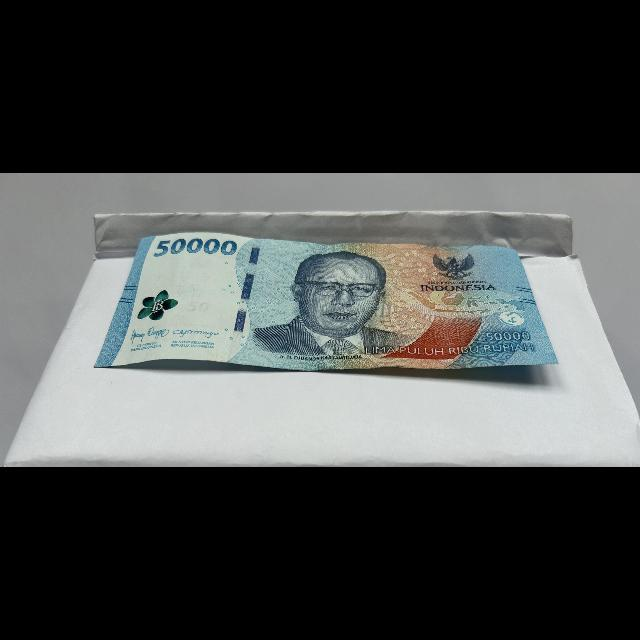Asli-50k: (90, 229, 566, 381)
Tinta-Asli-50k: (135, 289, 183, 322)
